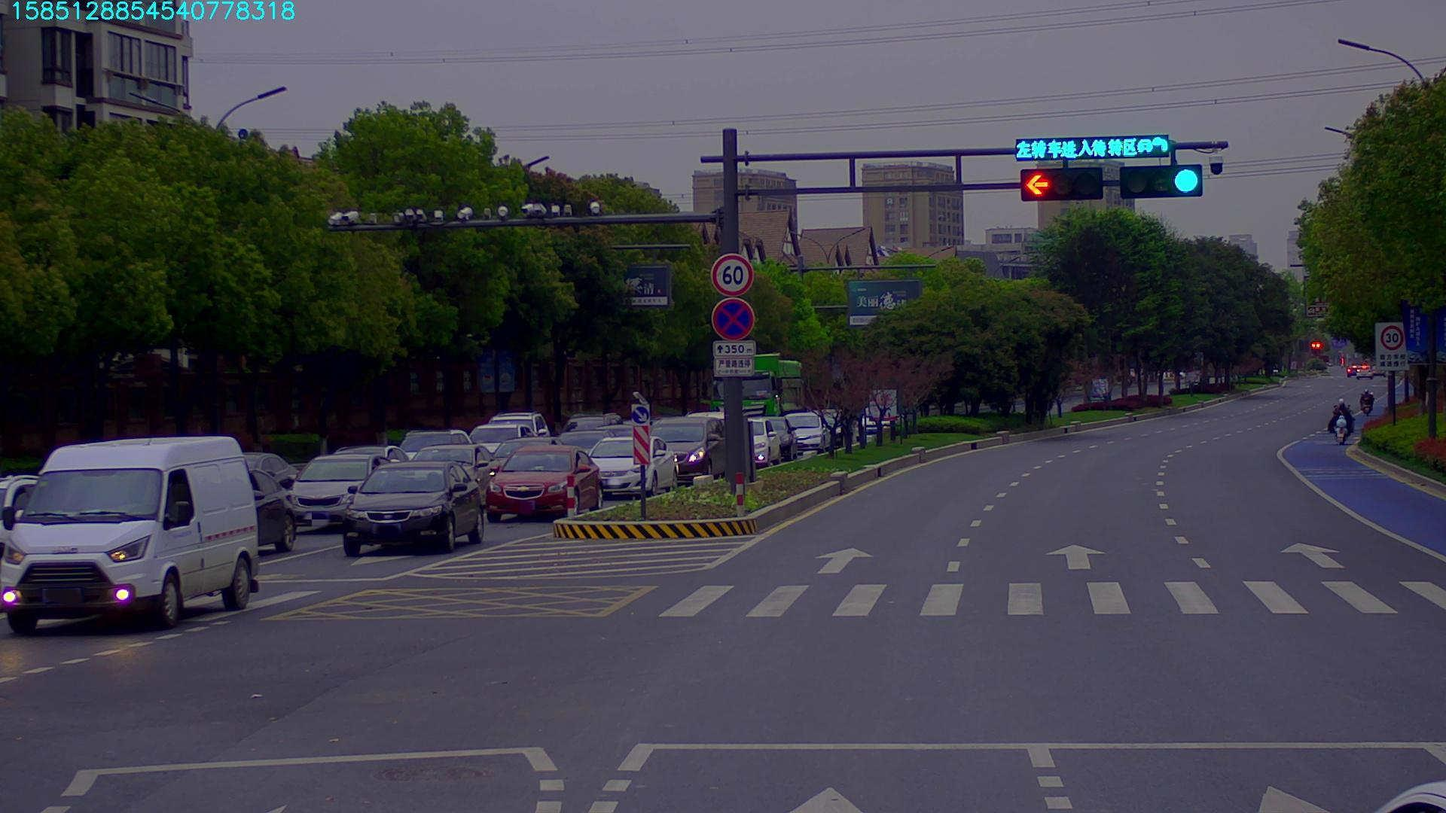green: (1115, 163, 1200, 199)
red: (1016, 167, 1115, 205)
wait_on: (1016, 137, 1170, 157)
